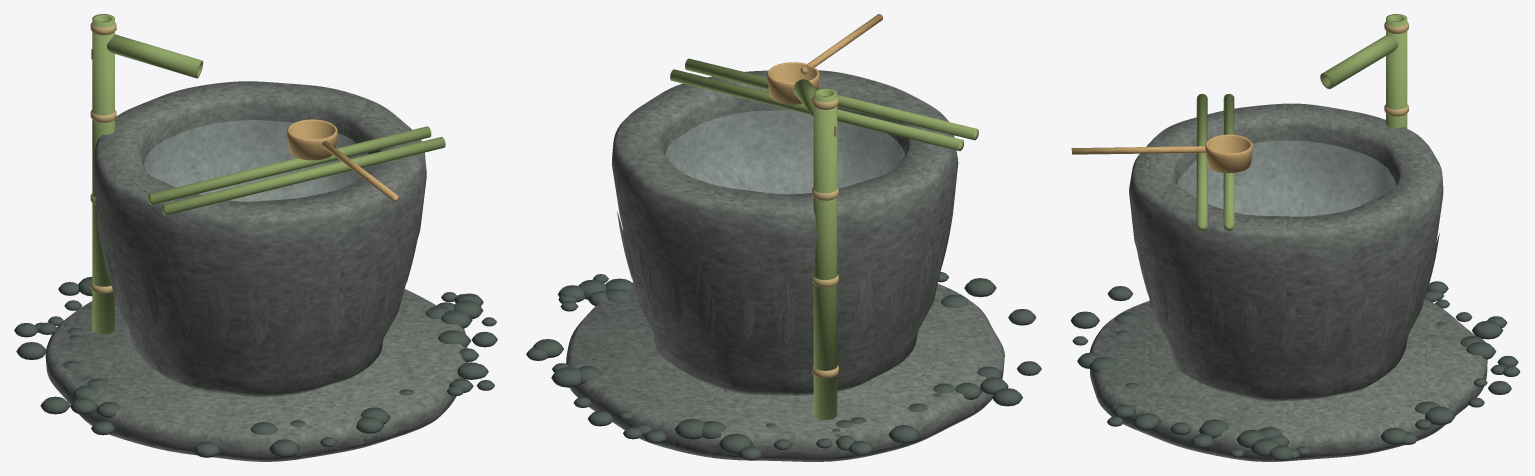
The model's file is handwash.glb.
The picture shows the model from 3 angles, left to right: view 1: azimuth 30°, elevation 25°; view 2: azimuth 150°, elevation 25°; view 3: azimuth 270°, elevation 25°; orthographic projection. The views are drawn at different scales.
Parts seen in each view (by area): view 1: Handwash | stone | Handwash | carved granite, Handwash | bamboo | Handwash | green bamboo, Handwash | stone | Handwash | dark river pebbles, Handwash | water | Handwash | clear water, Handwash | ladle | Handwash | pale hinoki, Handwash | bamboo | Handwash | cut bamboo end; view 2: Handwash | stone | Handwash | carved granite, Handwash | bamboo | Handwash | green bamboo, Handwash | water | Handwash | clear water, Handwash | stone | Handwash | dark river pebbles, Handwash | ladle | Handwash | pale hinoki, Handwash | bamboo | Handwash | cut bamboo end; view 3: Handwash | stone | Handwash | carved granite, Handwash | water | Handwash | clear water, Handwash | stone | Handwash | dark river pebbles, Handwash | bamboo | Handwash | green bamboo, Handwash | ladle | Handwash | pale hinoki.
Part boxes in pixels (<box>): Handwash | stone | Handwash | carved granite: <box>45,81,468,461</box>; Handwash | bamboo | Handwash | green bamboo: <box>92,14,445,334</box>; Handwash | stone | Handwash | dark river pebbles: <box>14,277,497,457</box>; Handwash | water | Handwash | clear water: <box>144,120,374,201</box>; Handwash | ladle | Handwash | pale hinoki: <box>287,119,398,201</box>; Handwash | bamboo | Handwash | cut bamboo end: <box>90,22,116,293</box>; Handwash | stone | Handwash | carved granite: <box>566,70,1004,461</box>; Handwash | bamboo | Handwash | green bamboo: <box>670,58,978,419</box>; Handwash | water | Handwash | clear water: <box>665,110,904,193</box>; Handwash | stone | Handwash | dark river pebbles: <box>526,272,1041,460</box>; Handwash | ladle | Handwash | pale hinoki: <box>767,14,882,104</box>; Handwash | bamboo | Handwash | cut bamboo end: <box>812,97,838,378</box>; Handwash | stone | Handwash | carved granite: <box>1089,103,1487,461</box>; Handwash | water | Handwash | clear water: <box>1178,141,1395,216</box>; Handwash | stone | Handwash | dark river pebbles: <box>1070,281,1520,461</box>; Handwash | bamboo | Handwash | green bamboo: <box>1196,14,1407,231</box>; Handwash | ladle | Handwash | pale hinoki: <box>1071,134,1252,173</box>.
Bounding box in the file's own units: 2.32 × 1.69 × 2.18.
Materials: 8 (2 with a texture image).
